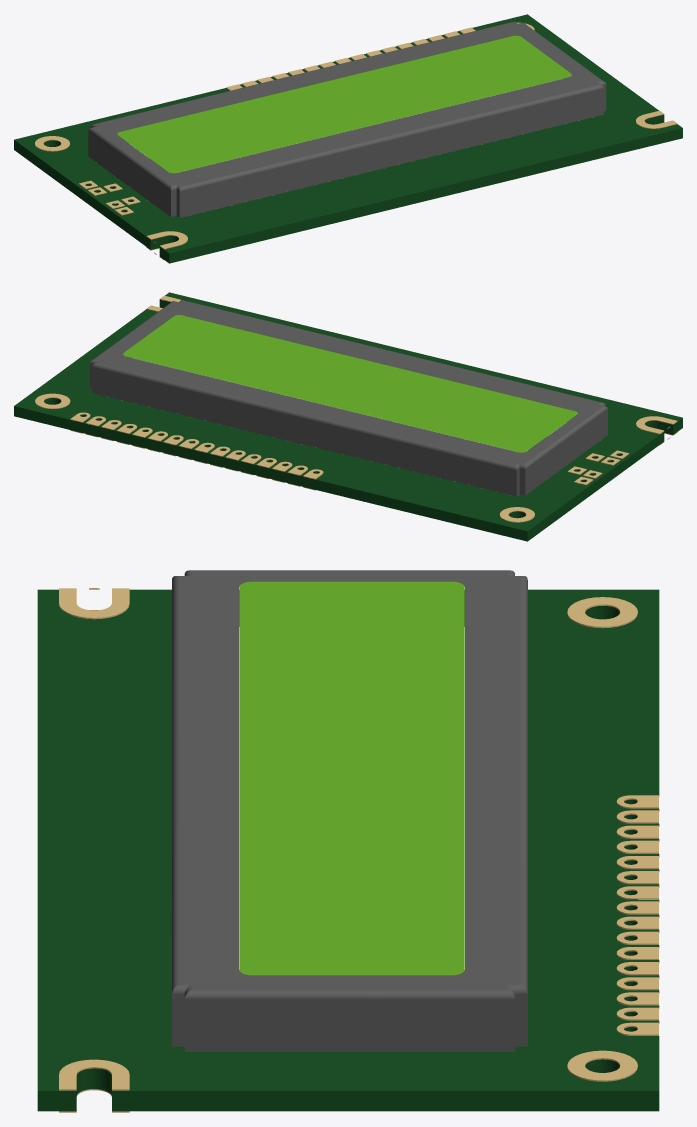
The picture shows the model from 3 angles, top to bottom: view 1: azimuth 30°, elevation 25°; view 2: azimuth 150°, elevation 25°; view 3: azimuth 270°, elevation 25°; orthographic projection. The views are drawn at different scales.
Visible parts, largest first — view 1: 0_0.08333333333333333_0_0, 0.08333333333333333_0.08333333333333333_0.08333333333333333_, 0.16666666666666666_0.4166666666666667_0_0, 0.75_0.5_0.25_0.9; view 2: 0.08333333333333333_0.08333333333333333_0.08333333333333333_, 0_0.08333333333333333_0_0, 0.16666666666666666_0.4166666666666667_0_0, 0.75_0.5_0.25_0.9; view 3: 0_0.08333333333333333_0_0, 0.16666666666666666_0.4166666666666667_0_0, 0.08333333333333333_0.08333333333333333_0.08333333333333333_, 0.75_0.5_0.25_0.9.
Part boxes in pixels (x1,y1,x2,y2): 0_0.08333333333333333_0_0: (14, 14, 682, 263); 0.08333333333333333_0.08333333333333333_0.08333333333333333_: (88, 21, 606, 217); 0.16666666666666666_0.4166666666666667_0_0: (117, 35, 571, 173); 0.75_0.5_0.25_0.9: (35, 22, 677, 260); 0.08333333333333333_0.08333333333333333_0.08333333333333333_: (90, 300, 607, 496); 0_0.08333333333333333_0_0: (14, 292, 682, 541); 0.16666666666666666_0.4166666666666667_0_0: (123, 315, 577, 452); 0.75_0.5_0.25_0.9: (35, 295, 677, 522); 0_0.08333333333333333_0_0: (37, 589, 659, 1111); 0.16666666666666666_0.4166666666666667_0_0: (239, 581, 464, 975); 0.08333333333333333_0.08333333333333333_0.08333333333333333_: (172, 570, 527, 1051); 0.75_0.5_0.25_0.9: (59, 588, 658, 1112).
Size of the model in its own units: 8.4 by 0.9201 by 4.4.
